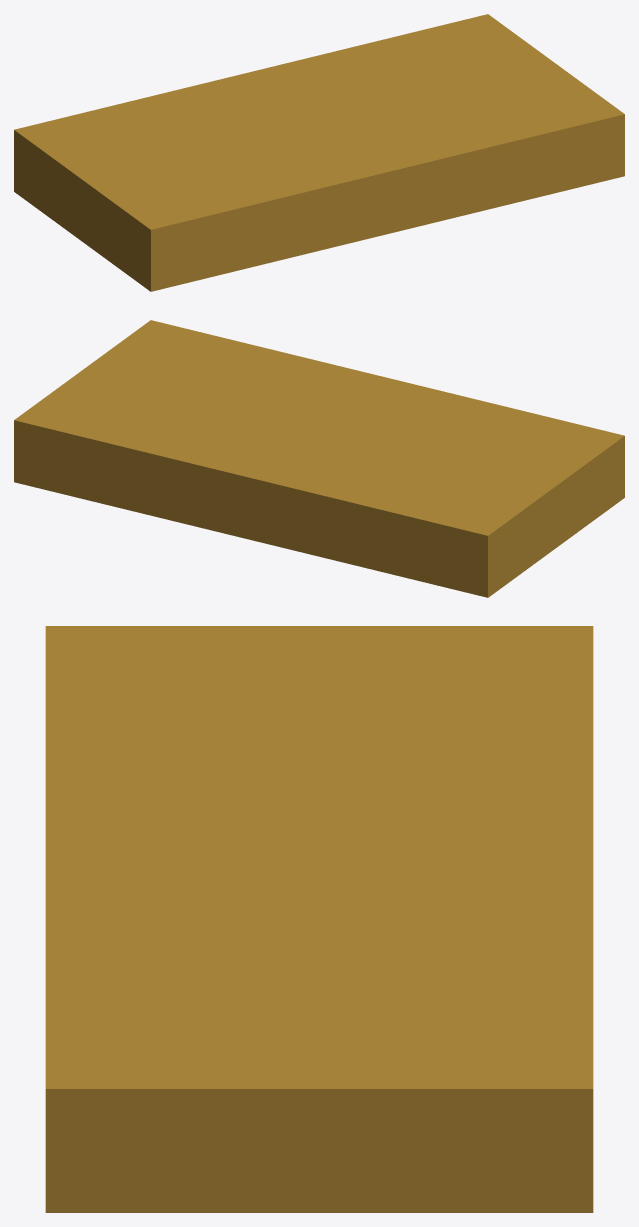
Rendered from techoA.obj.
The picture shows the model from 3 angles, top to bottom: view 1: azimuth 30°, elevation 25°; view 2: azimuth 150°, elevation 25°; view 3: azimuth 270°, elevation 25°; orthographic projection. The views are drawn at different scales.
Visible parts, largest first — view 1: Wall.002; view 2: Wall.002; view 3: Wall.002.
Part boxes in pixels (bbox=[...]): Wall.002: bbox=[14, 14, 624, 291]; Wall.002: bbox=[14, 320, 624, 597]; Wall.002: bbox=[45, 626, 593, 1212].
Size of the model in its own units: 8 by 1 by 4.
4 materials, 4 textured.
